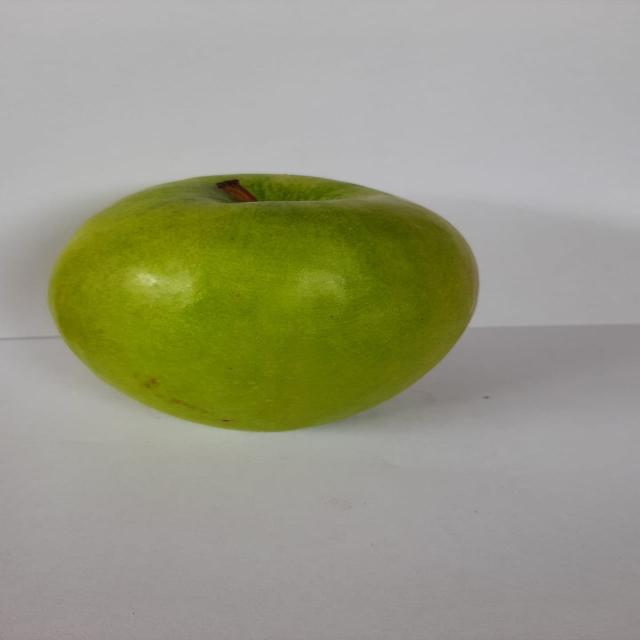50-_ripeness: (28, 165, 496, 441)
